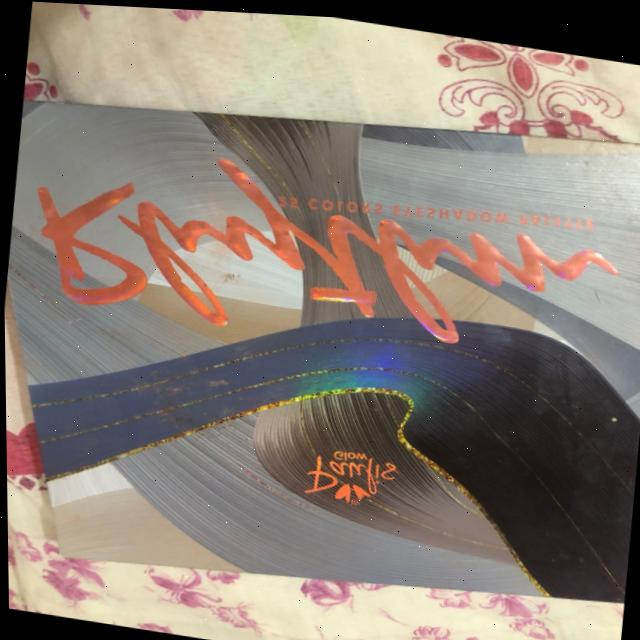makeup: (0, 3, 640, 640)
